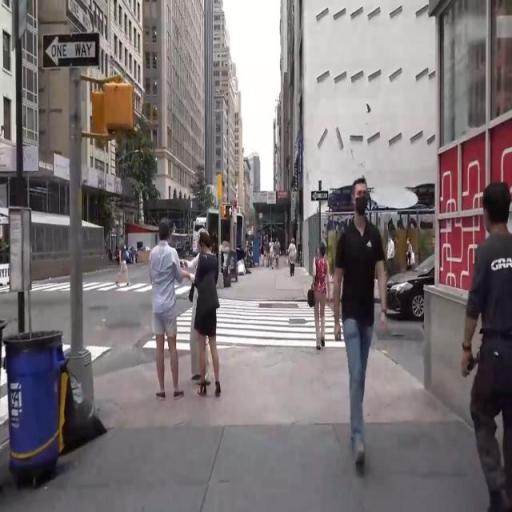person: (337, 176, 391, 477), (472, 186, 512, 512), (143, 215, 188, 413), (199, 240, 224, 404), (307, 239, 334, 358), (190, 224, 206, 370), (117, 232, 130, 293), (288, 239, 300, 284), (388, 232, 399, 274), (407, 235, 418, 273), (276, 237, 285, 271), (266, 233, 272, 267), (271, 237, 277, 269)
